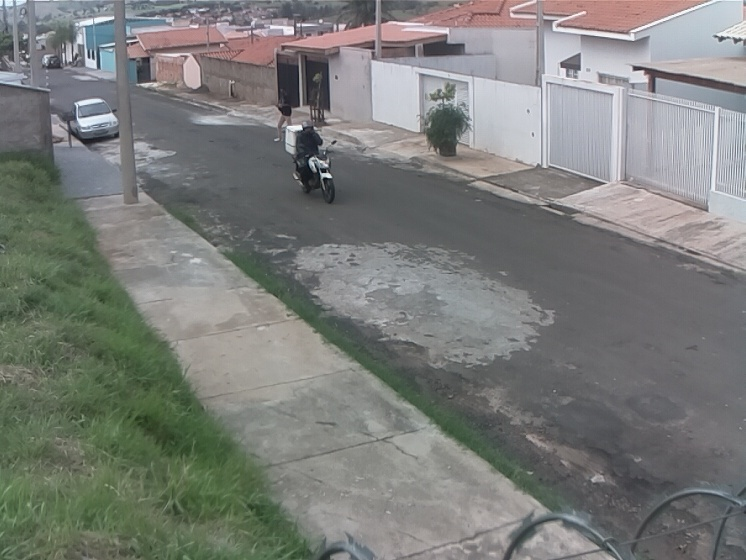person: (296, 117, 323, 196), (272, 84, 298, 144)
